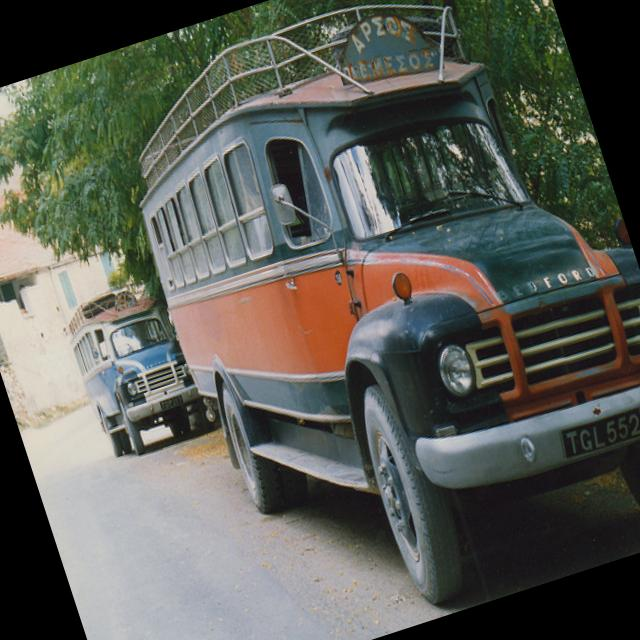Vehicle: (95, 0, 640, 640), (59, 277, 213, 465)
